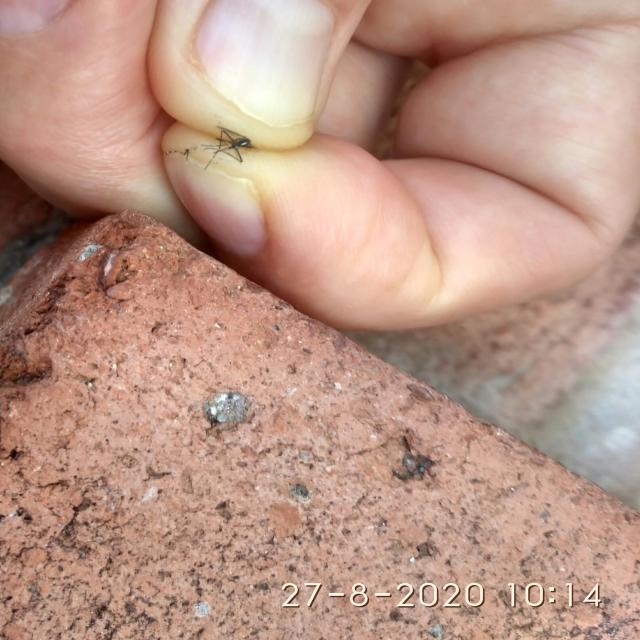albopictus: (164, 118, 263, 172)
